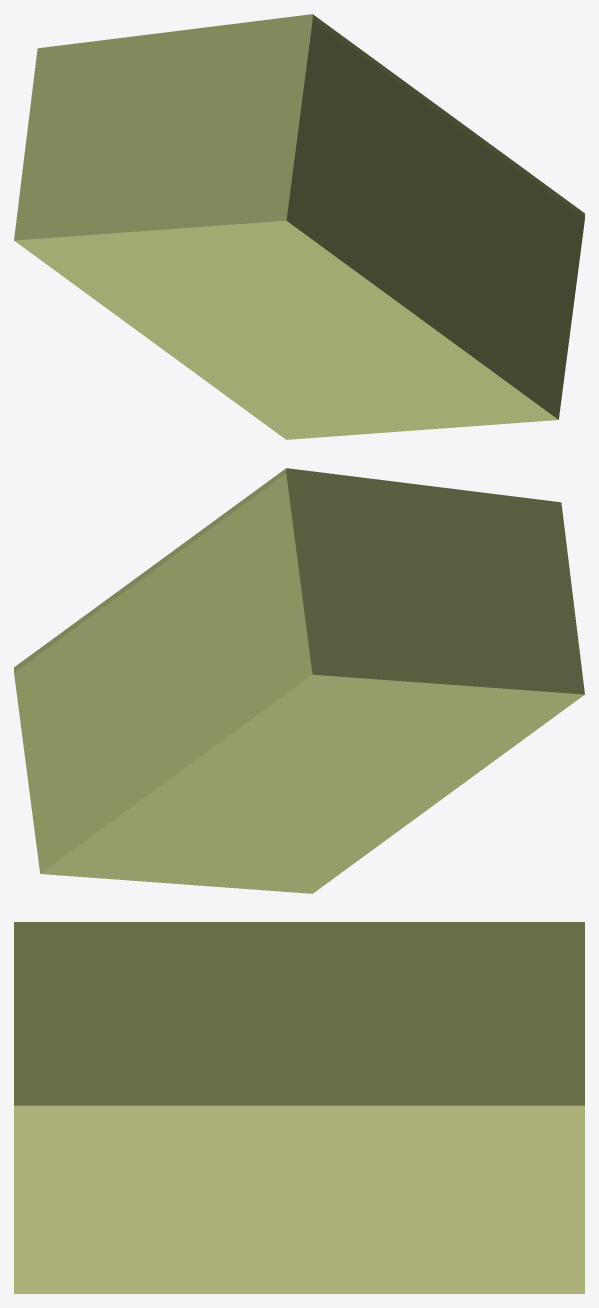
3 views of the same model, one above another, from view 1: azimuth 30°, elevation 25°; view 2: azimuth 150°, elevation 25°; view 3: azimuth 270°, elevation 25° (orthographic). The views are drawn at different scales.
Parts seen in each view (by area): view 1: 0_0_1_2_3_0_3_3_0; view 2: 0_0_1_2_3_0_3_3_0; view 3: 0_0_1_2_3_0_3_3_0.
Boxes of the visible parts, x1,y1,x2,y2 form: 0_0_1_2_3_0_3_3_0: (14,14,584,439); 0_0_1_2_3_0_3_3_0: (14,468,584,893); 0_0_1_2_3_0_3_3_0: (14,922,584,1293).
Bounding box in the file's own units: 5.7 × 4.25 × 9.
